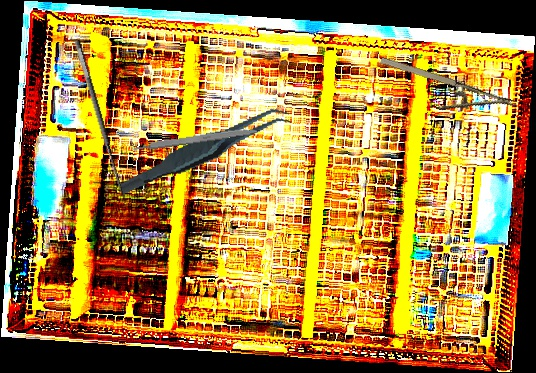Hook Surgical: (71, 36, 139, 202)
Needle Holder: (371, 53, 519, 134)
Scalpel Handle: (132, 125, 261, 152)
Tissue Forceps: (111, 105, 299, 196)
